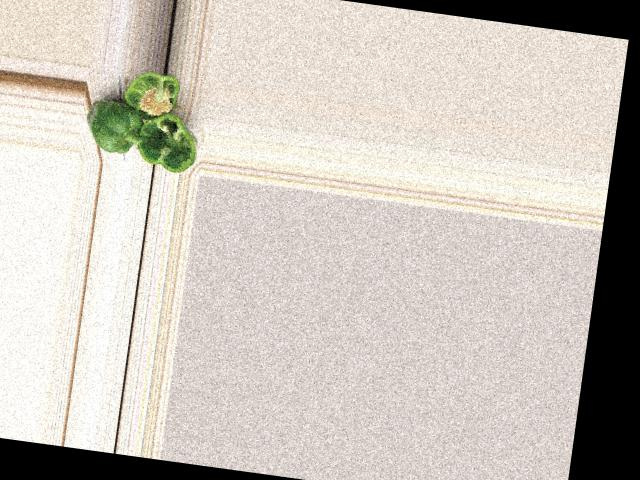bell_pepper: (118, 68, 192, 124)
